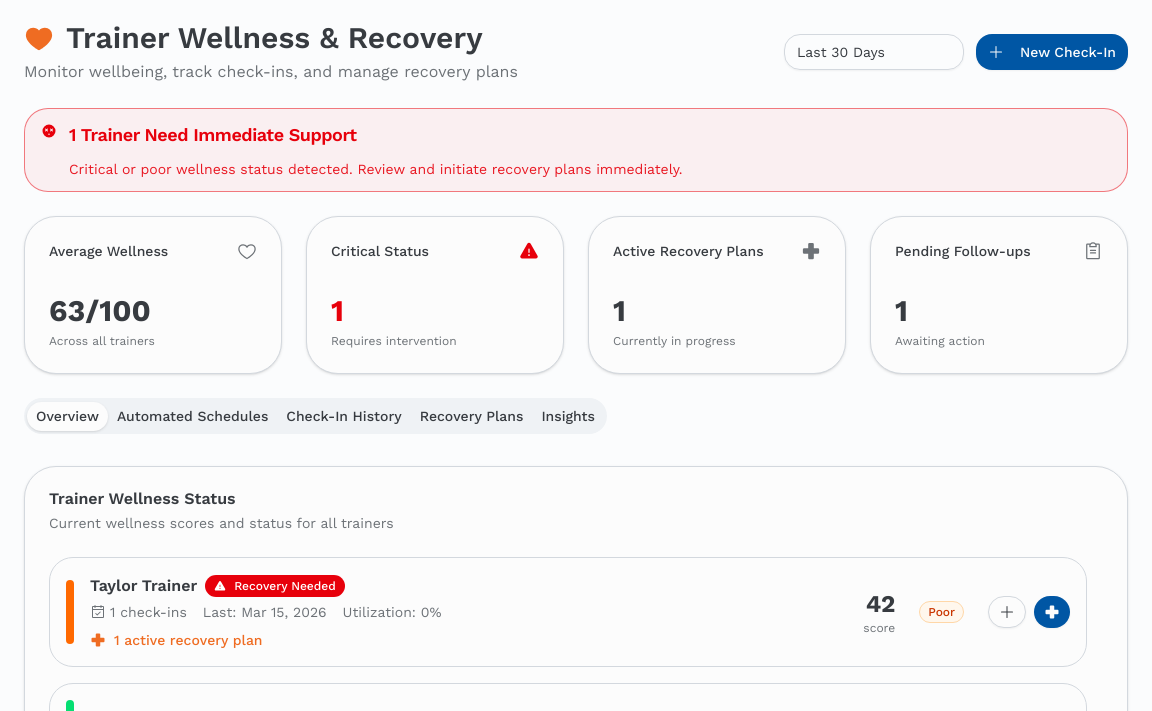
Test: TrainerWellness › renders overdue and due-soon schedule indicators
Click the tab "Automated Schedules". click: click(193, 416)
box: [108,402,277,430]
(page scrolled)
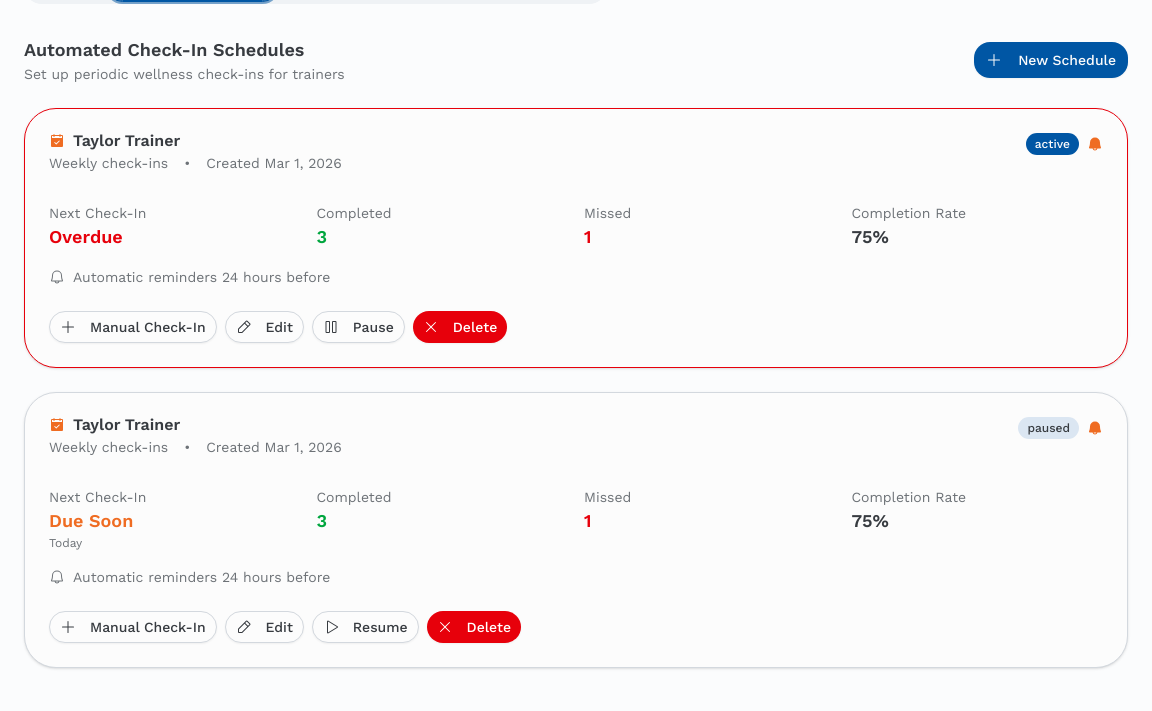
Result: the text "Overdue" is shown at [49,226,123,247]
Result: the text "Due Soon" is shown at [49,510,133,531]
Result: the text "Today" is shown at [49,536,82,550]
